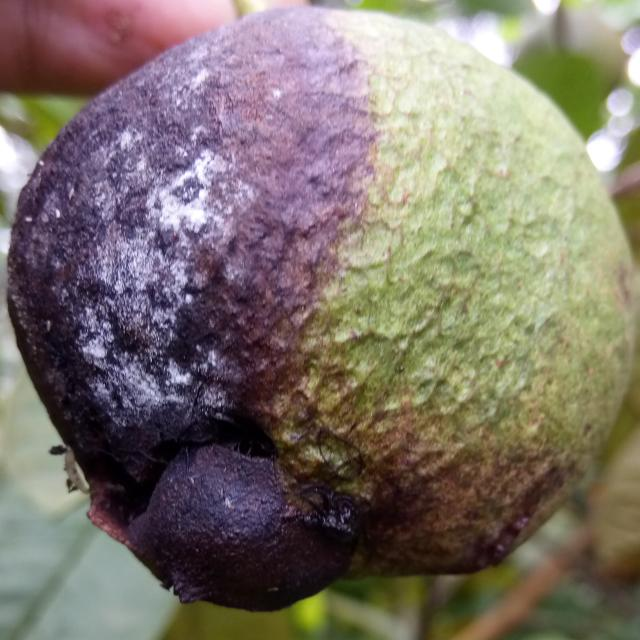Phytopthora: (9, 12, 374, 542)
